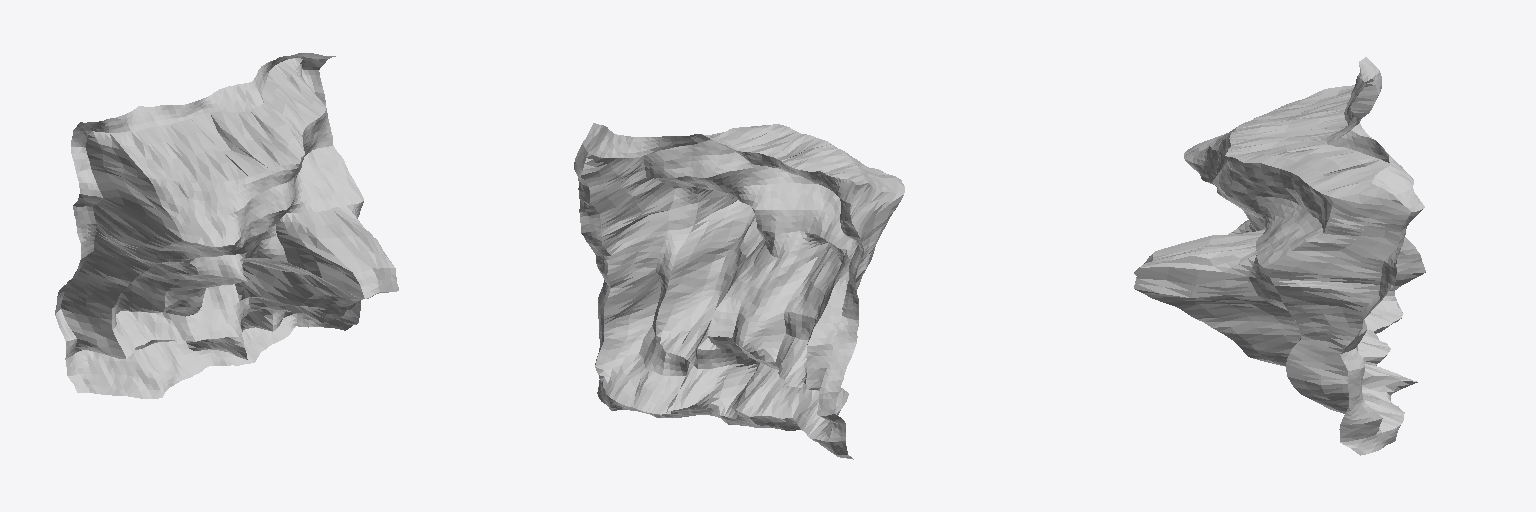
The model's file is pool6.obj.
3 views of the same model, side by side, from view 1: azimuth 30°, elevation 25°; view 2: azimuth 150°, elevation 25°; view 3: azimuth 270°, elevation 25° (orthographic).
Size of the model in its own units: 254 by 252 by 236.